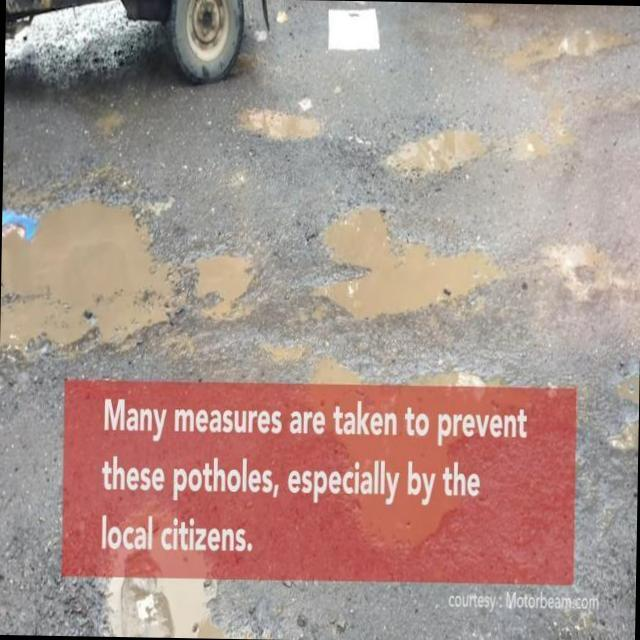Burst: (4, 199, 257, 351), (306, 203, 501, 322), (386, 129, 493, 192), (517, 24, 633, 76), (236, 107, 323, 156)
